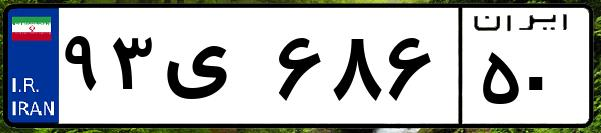0: (525, 38, 570, 115)
3: (110, 28, 158, 98)
5: (475, 38, 525, 113)
6: (270, 28, 330, 110), (385, 28, 445, 110)
8: (330, 28, 385, 110)
9: (57, 26, 110, 100)
ی: (158, 20, 270, 120)
